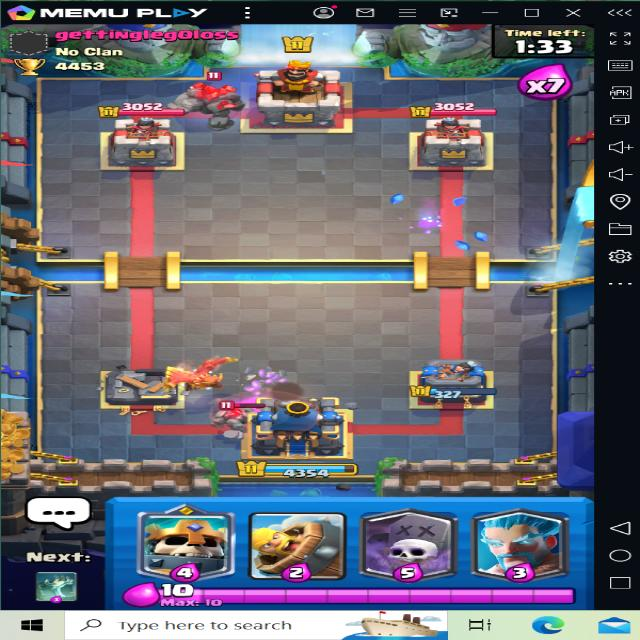Golem: (167, 74, 252, 126), (206, 394, 262, 432)
